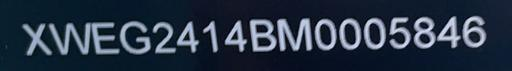letter: (45, 20, 91, 57), (274, 14, 314, 53), (116, 18, 152, 57), (20, 20, 54, 55), (90, 18, 122, 55), (458, 12, 488, 51), (248, 16, 278, 53), (386, 13, 412, 50), (436, 14, 462, 51), (411, 15, 437, 52), (174, 18, 200, 55), (222, 18, 248, 55), (336, 16, 362, 51), (312, 16, 338, 51), (152, 20, 178, 55), (362, 17, 388, 50), (202, 18, 220, 55)
